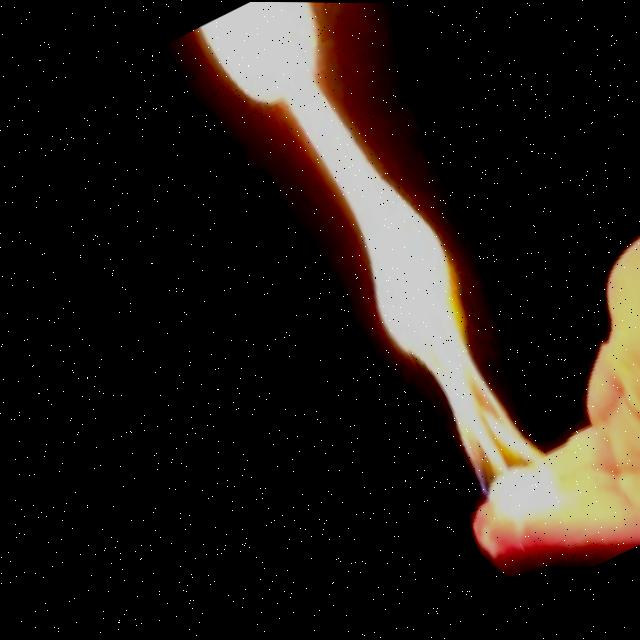Fire: (190, 1, 633, 526)
